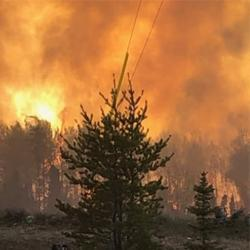fire: (12, 89, 63, 123)
